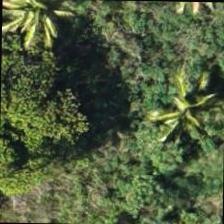Kelapa_Sawit: (143, 65, 223, 158), (1, 0, 76, 67)
